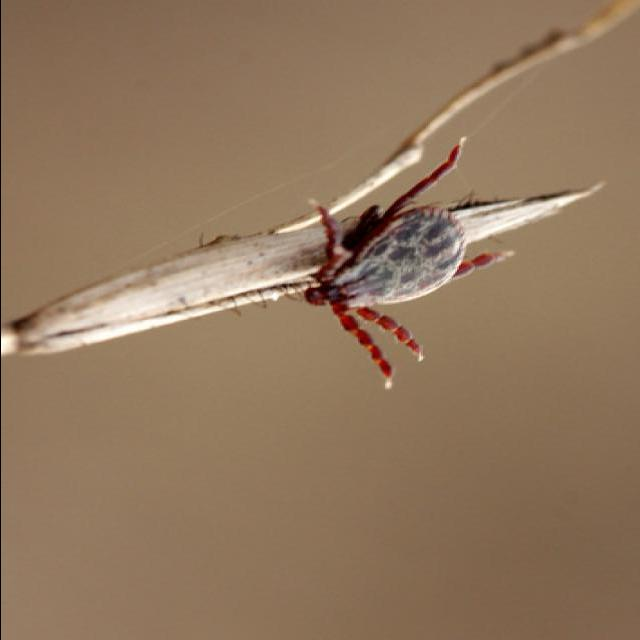Dermacentor Reticulatus-M: (303, 137, 514, 390)
